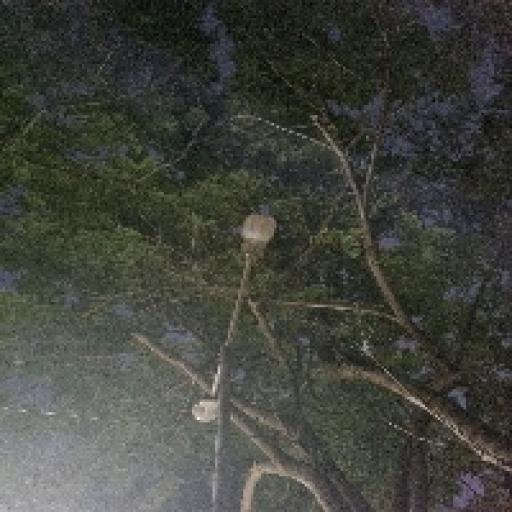Not Working: (222, 205, 284, 274), (179, 384, 234, 433)
